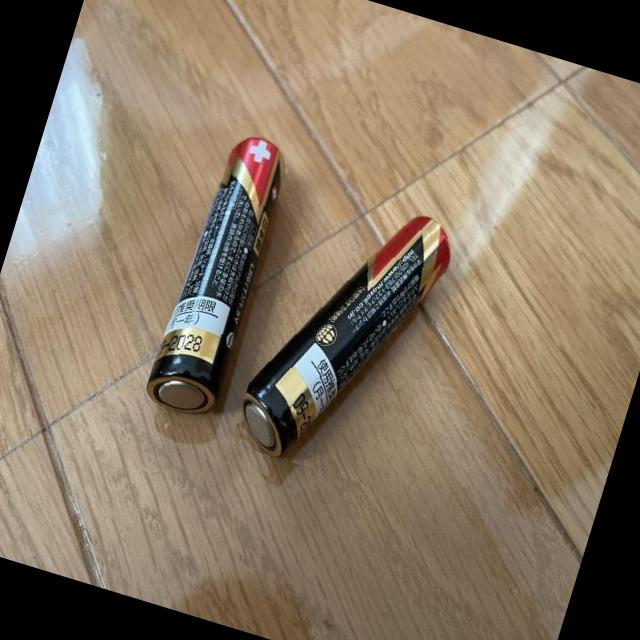Hazard: (230, 180, 467, 490), (141, 124, 297, 425)
